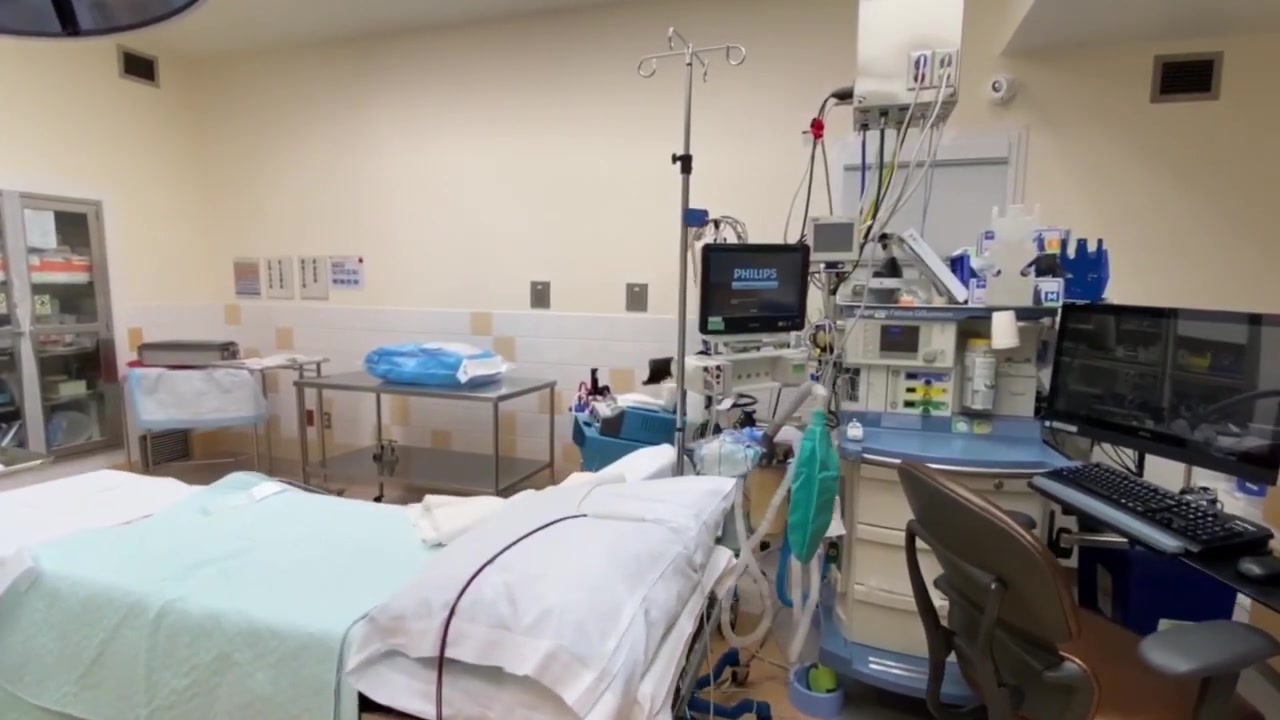bedside_monitor: (699, 242, 811, 335), (802, 215, 862, 261)
breathing_tube: (714, 422, 834, 665)
cabinet: (1, 184, 132, 451)
chair: (896, 460, 1280, 720)
computer: (1042, 301, 1280, 486)
electrosurgical_unit: (587, 395, 686, 444)
iv_pole: (636, 23, 751, 477)
keyboard: (1040, 460, 1280, 557)
medical_drawer: (836, 421, 1067, 720)
mouse: (1235, 555, 1280, 584)
operating_bed: (1, 461, 750, 720)
utility_cart: (291, 368, 560, 503), (209, 353, 330, 495)
